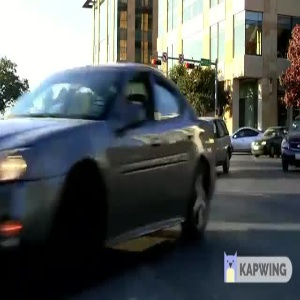car: (1, 69, 218, 257)
